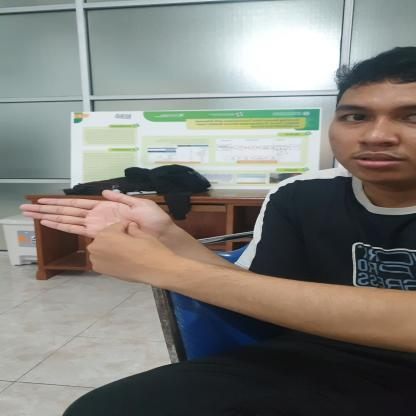Nama: (0, 172, 240, 285)
